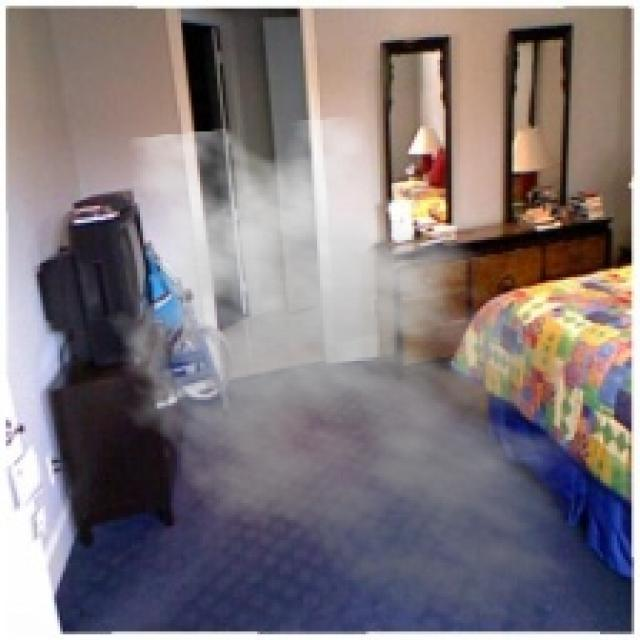smoke: (91, 114, 632, 632)
